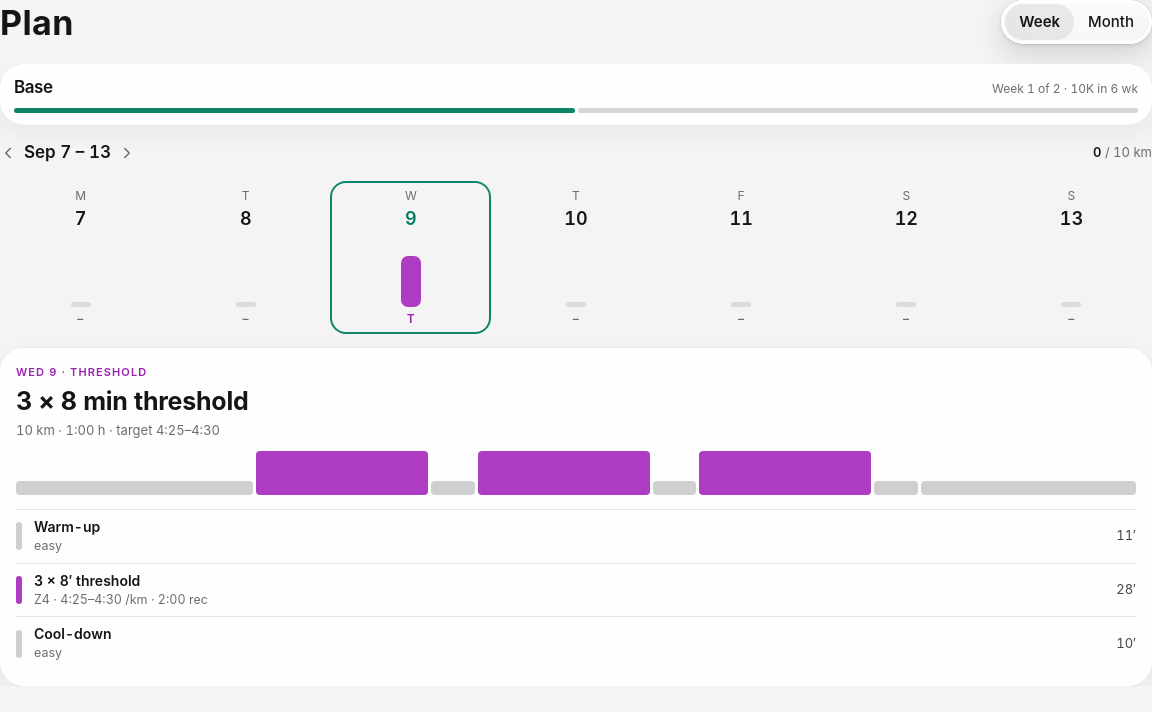
Scenario: PlanClient week/month switching › behaves the same way once a coaching block is active
Click the tab "Month" at (1111, 22), box [1074, 4, 1148, 40]
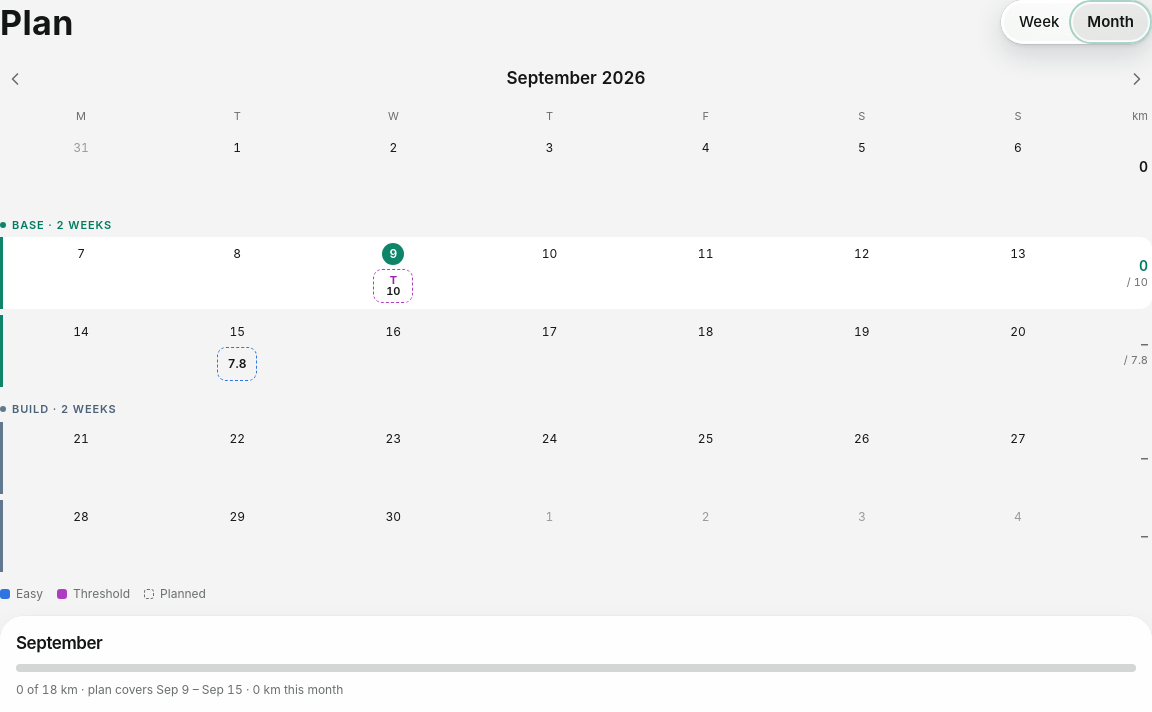
expect the tab "Month" is selected: met, box [1073, 4, 1148, 40]
Click the tab "Week" at (1039, 22), box [1005, 4, 1073, 40]
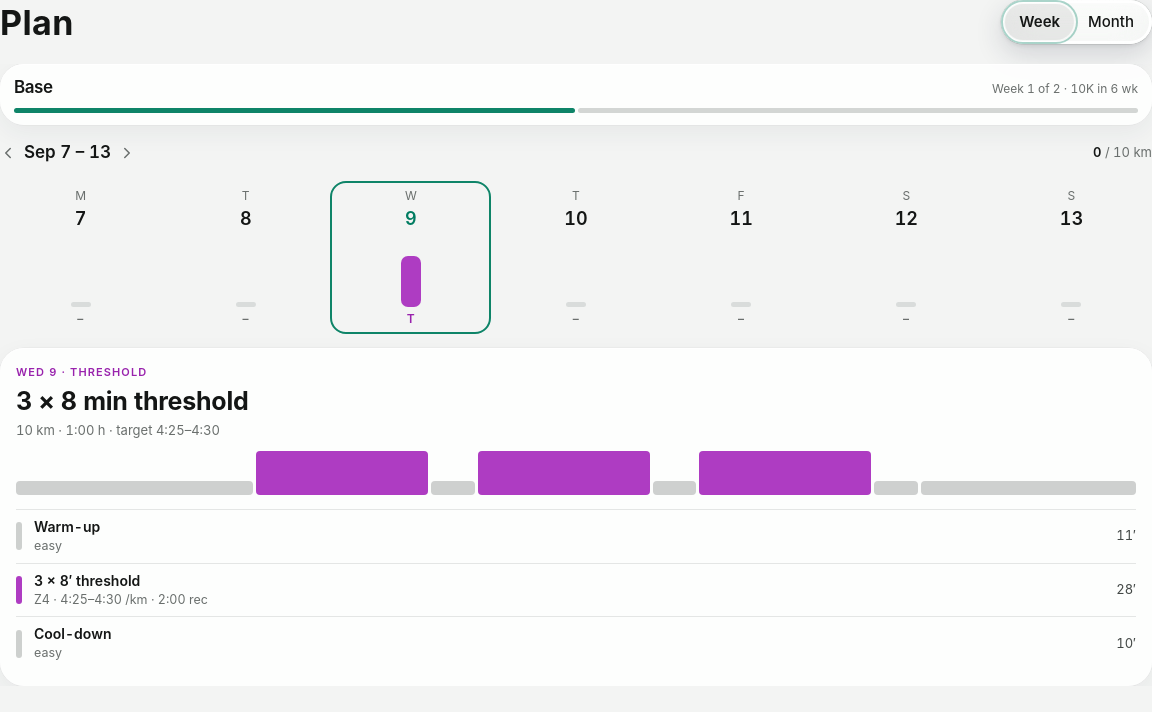
expect the element with test id "day-selector" is shown: met, box [0, 181, 1151, 334]
